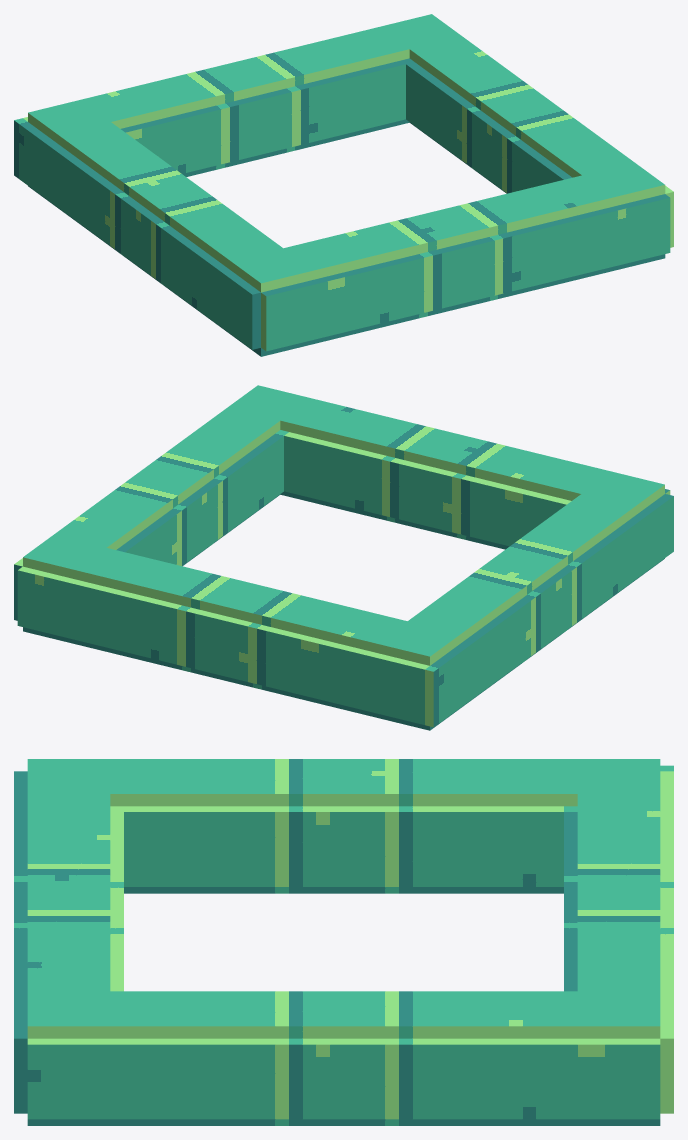
File: lesser_gate_graveao.fezao.glb
3 views of the same model, one above another, from view 1: azimuth 30°, elevation 25°; view 2: azimuth 150°, elevation 25°; view 3: azimuth 270°, elevation 25° (orthographic). The views are drawn at different scales.
Visible parts, largest first — view 1: LESSER_GATE_GRAVEAO; view 2: LESSER_GATE_GRAVEAO; view 3: LESSER_GATE_GRAVEAO.
Boxes of the visible parts, box(x1,y1,x2,y2) form: LESSER_GATE_GRAVEAO: box(14, 14, 673, 356); LESSER_GATE_GRAVEAO: box(14, 385, 673, 730); LESSER_GATE_GRAVEAO: box(14, 759, 673, 1125).
Bounding box in the file's own units: 3 × 0.5 × 3.
1 material, 1 textured.
